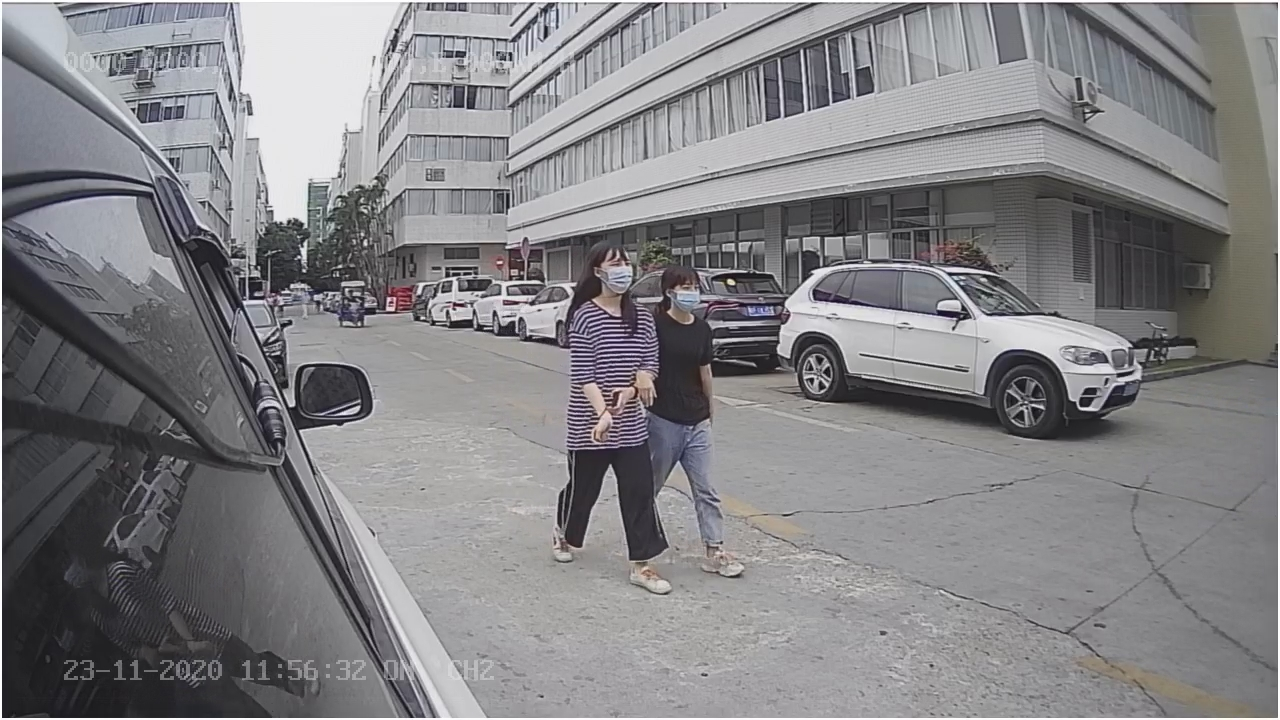person: (547, 239, 678, 601), (634, 267, 754, 583)
